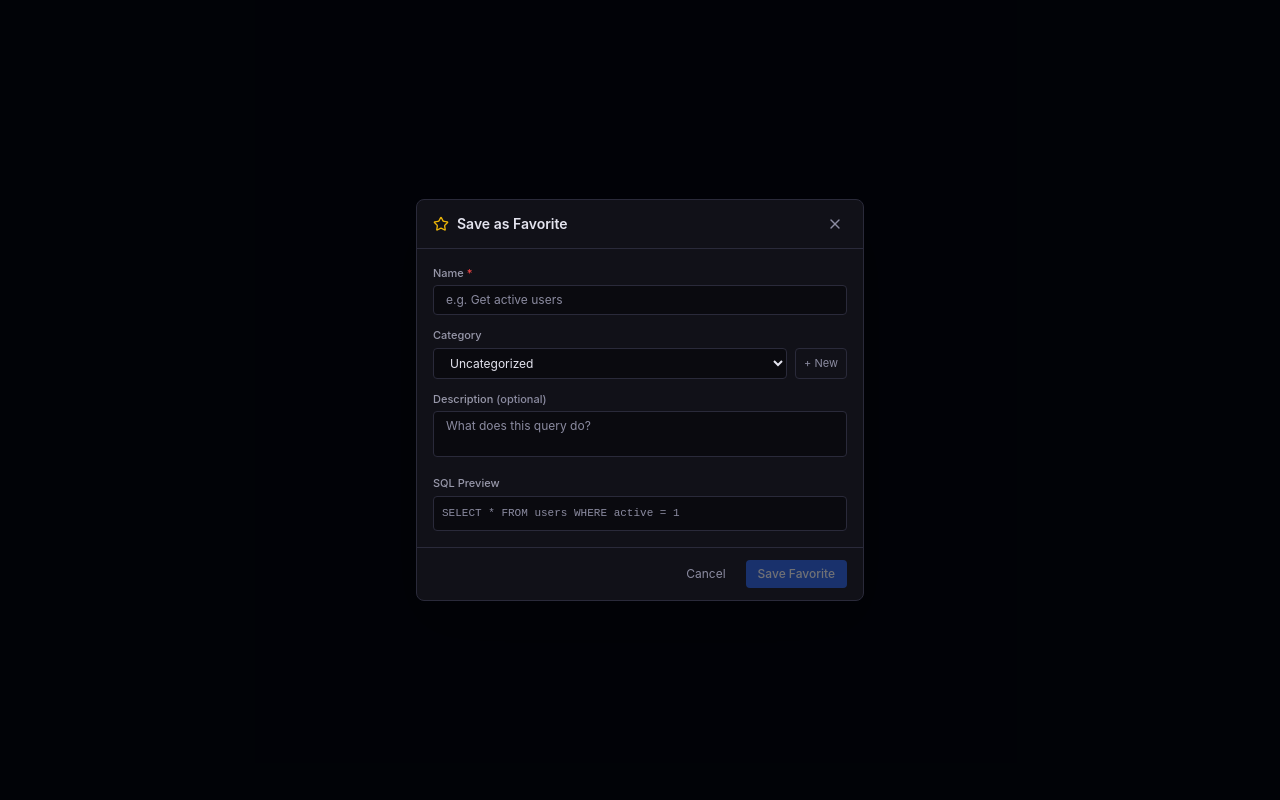
SaveFavoriteDialog › duplicate names › keeps the dialog open and says so when the store refuses (#332)
The width and height of the screenshot is (1280, 800).
Type "Active users" into the field with placeholder "e.g. Get active users" at {"x": 640, "y": 300}, box left=433, top=285, right=847, bottom=315
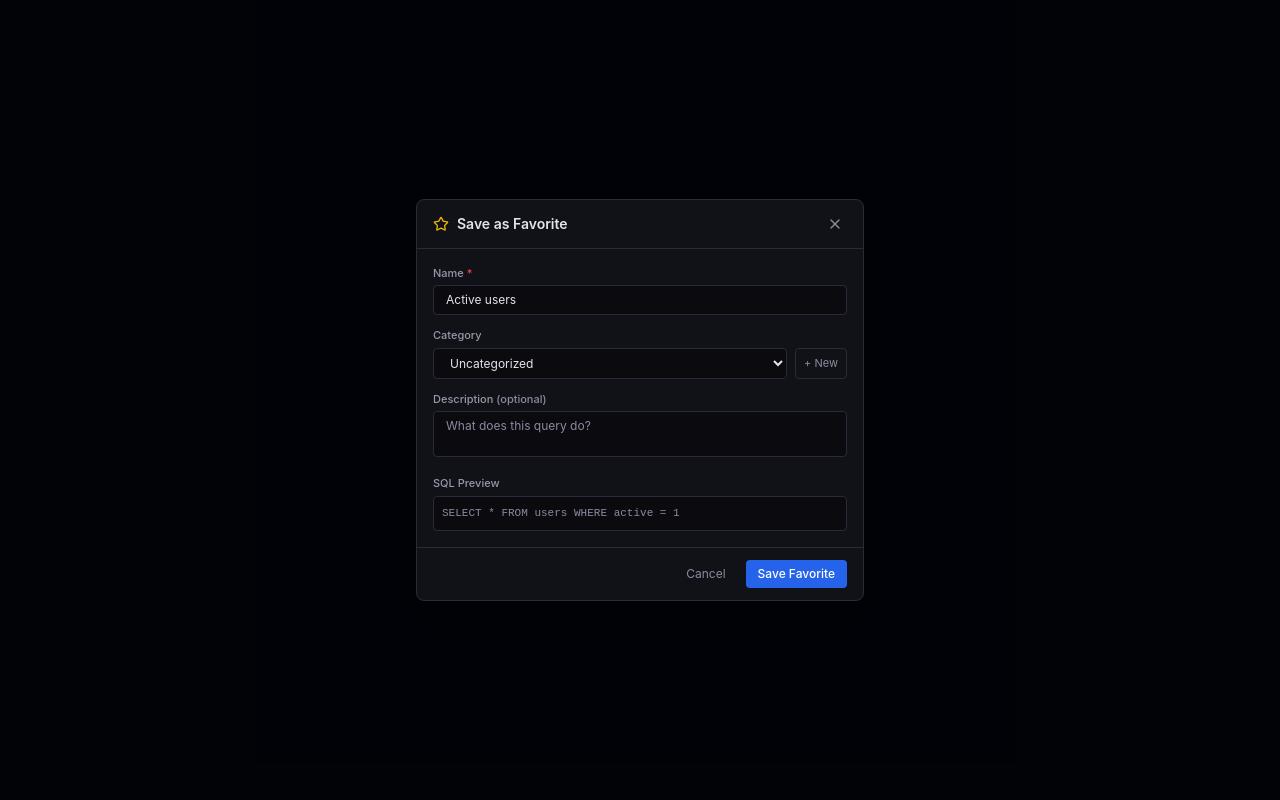
Click the button "Save Favorite" at {"x": 796, "y": 574}, box left=746, top=560, right=847, bottom=588
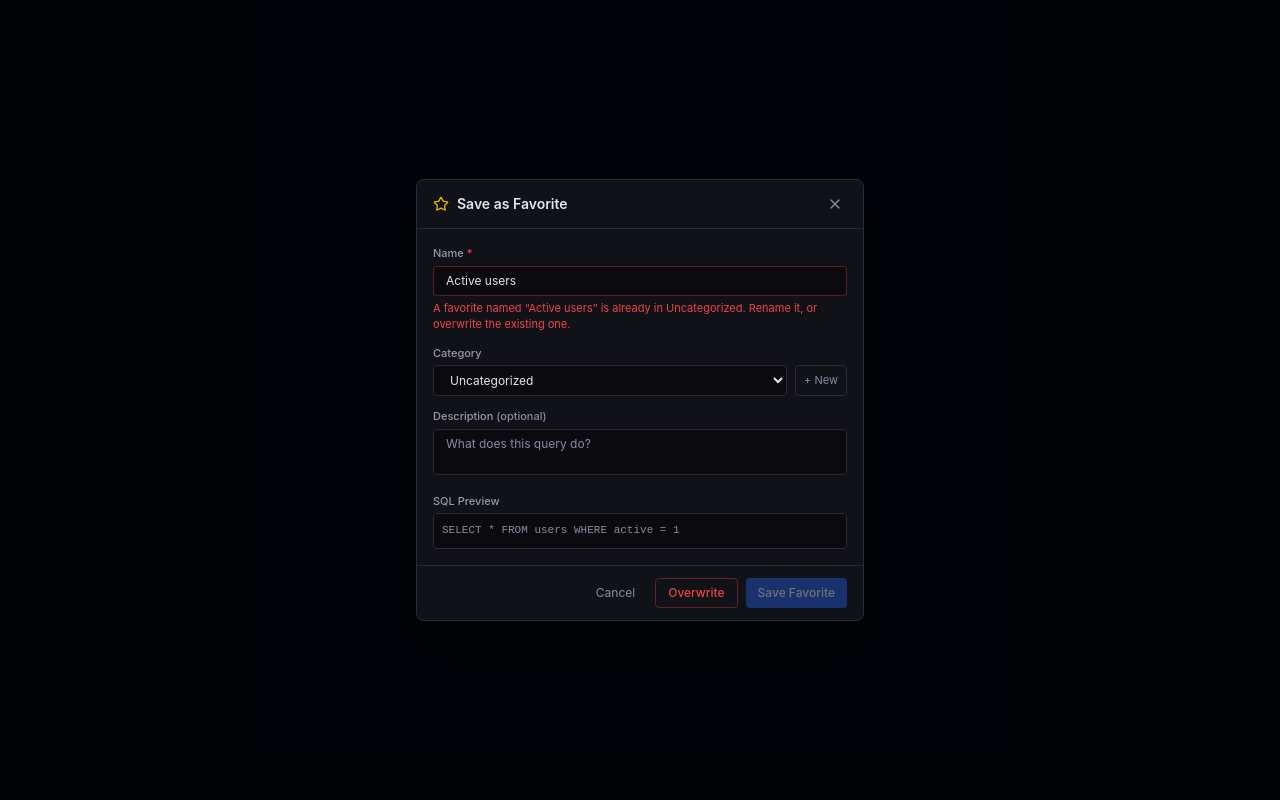
Now the message shows "already in Uncategorized", box left=433, top=300, right=847, bottom=333
